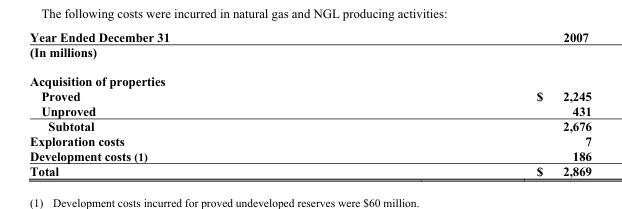table: (28, 29, 590, 177)
table column: (28, 29, 352, 177), (352, 29, 590, 177)
table projected row header: (28, 44, 590, 66), (28, 66, 590, 88)
table row: (28, 44, 590, 66), (28, 66, 590, 88), (28, 29, 590, 44), (28, 88, 590, 103), (28, 103, 590, 118), (28, 118, 590, 133), (28, 147, 590, 162), (28, 162, 590, 177), (28, 133, 590, 147)
